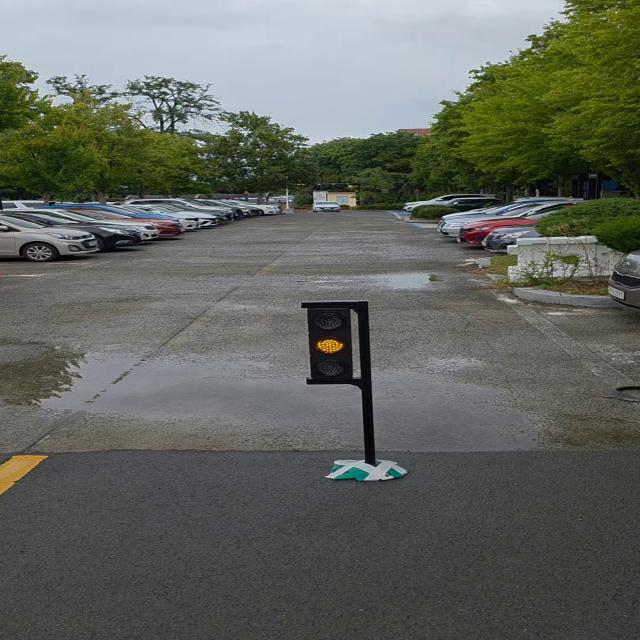yellow: (302, 305, 363, 388)
